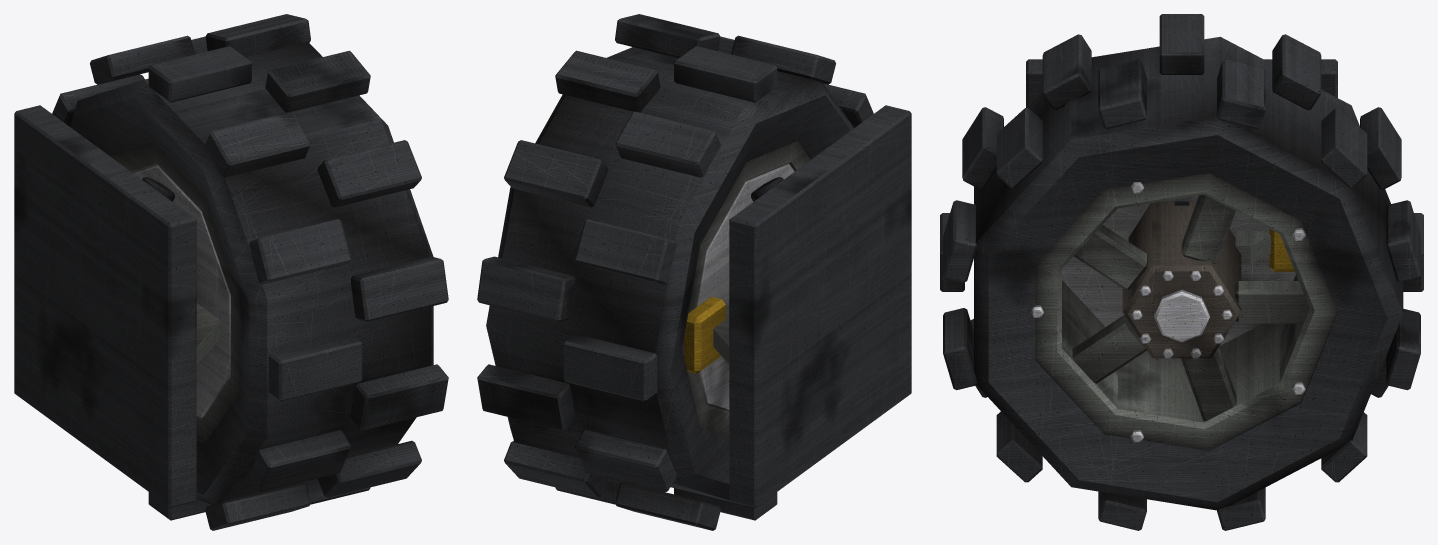
File: R4M_WheelM_Side_Offroad_LOD1.glb
The picture shows the model from 3 angles, left to right: view 1: azimuth 30°, elevation 25°; view 2: azimuth 150°, elevation 25°; view 3: azimuth 270°, elevation 25°; orthographic projection.
Visible parts, largest first — view 1: R4M_WheelM_Side_Offroad_LOD1; view 2: R4M_WheelM_Side_Offroad_LOD1; view 3: R4M_WheelM_Side_Offroad_LOD1.
Part boxes in pixels (x1,y1,x2,y2): R4M_WheelM_Side_Offroad_LOD1: (14, 14, 448, 530); R4M_WheelM_Side_Offroad_LOD1: (477, 14, 911, 530); R4M_WheelM_Side_Offroad_LOD1: (940, 14, 1423, 530).
Bounding box in the file's own units: 0.452 × 0.776 × 0.776.
Materials: 5 (5 with a texture image).
